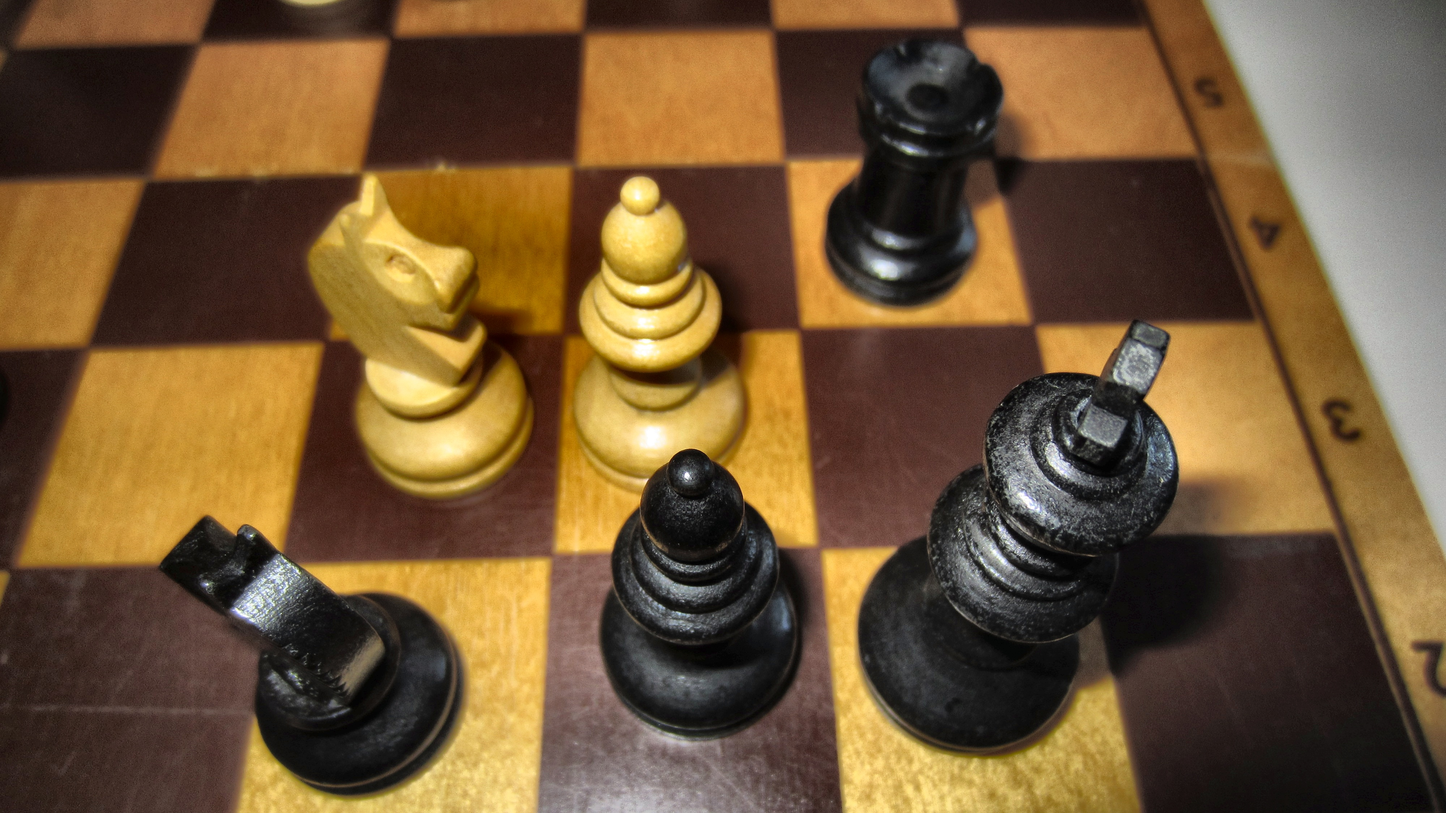black-bishop: (595, 447, 803, 739)
black-king: (854, 318, 1182, 759)
black-knight: (155, 511, 466, 797)
black-rook: (818, 36, 1007, 310)
white-bishop: (570, 171, 752, 495)
white-knight: (304, 174, 534, 501)
